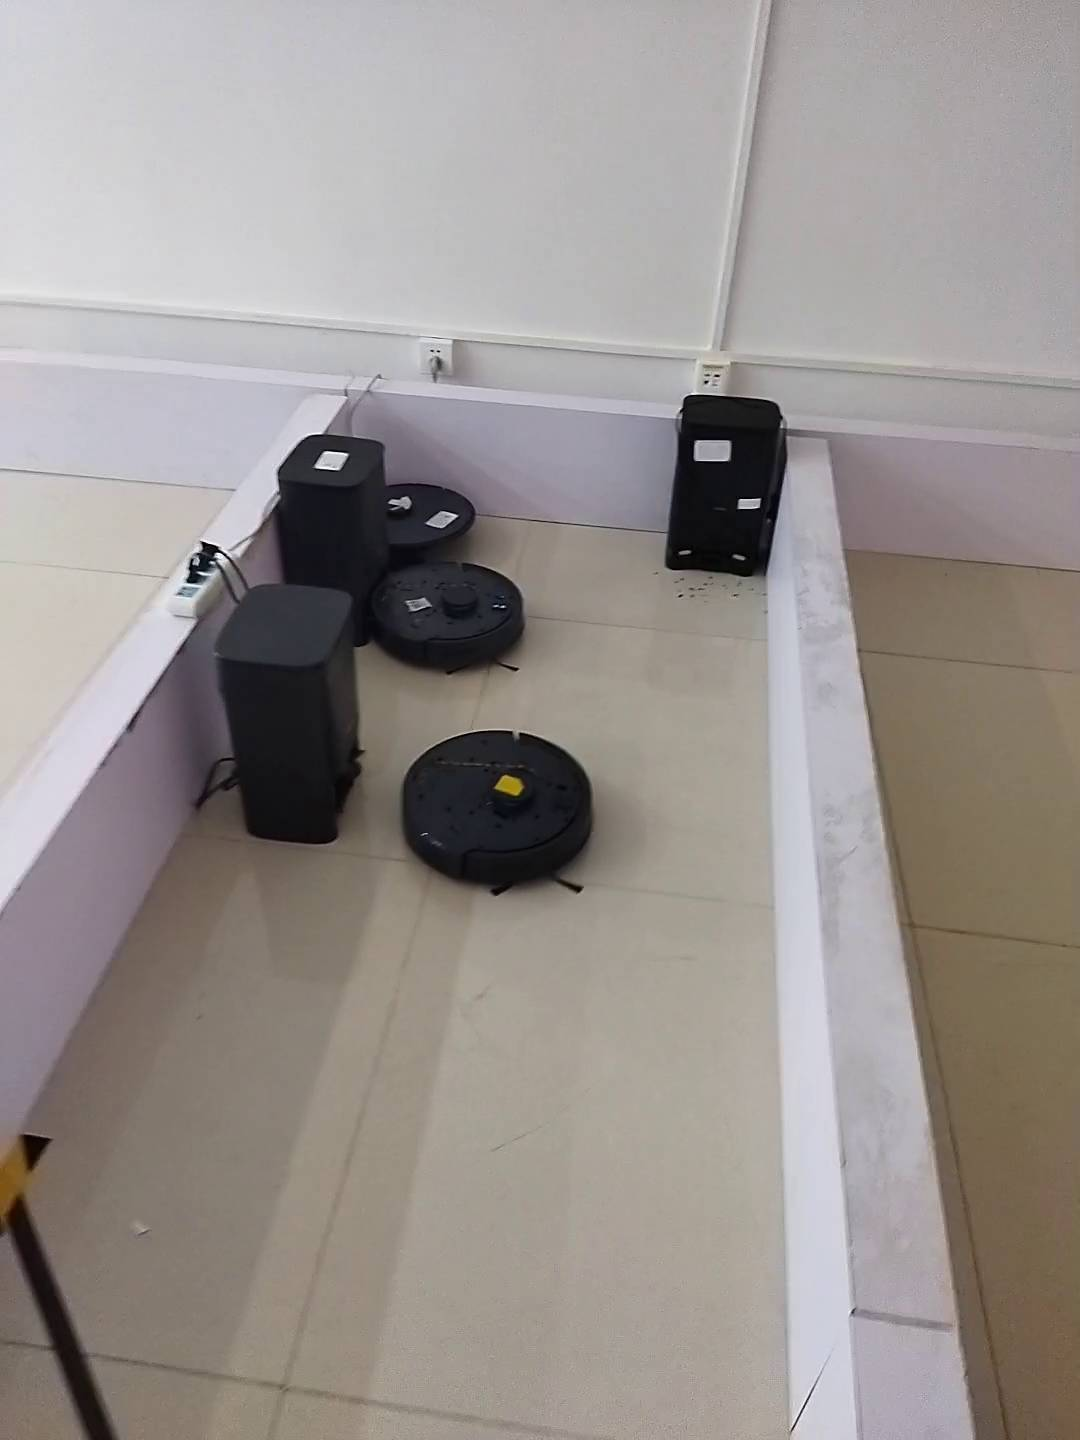dust collecting barrel: (214, 584, 357, 841), (280, 438, 390, 645), (667, 393, 787, 576)
